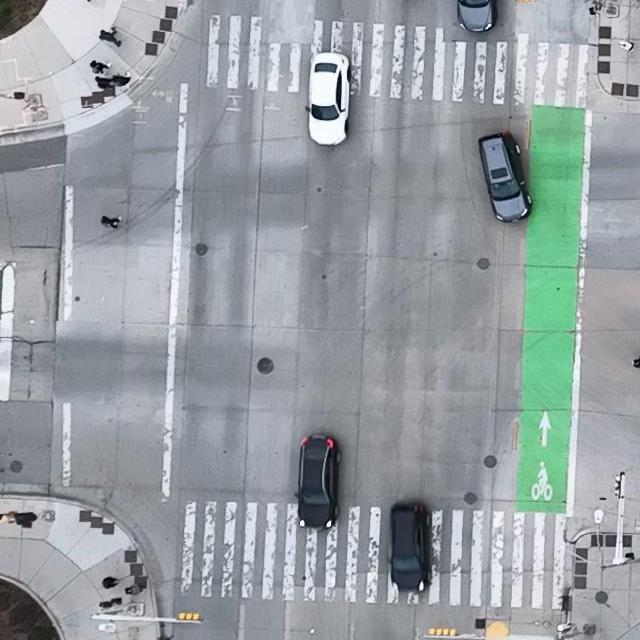car: (479, 134, 532, 223), (306, 51, 352, 145), (296, 433, 341, 528), (387, 504, 431, 591), (456, 0, 496, 32)
